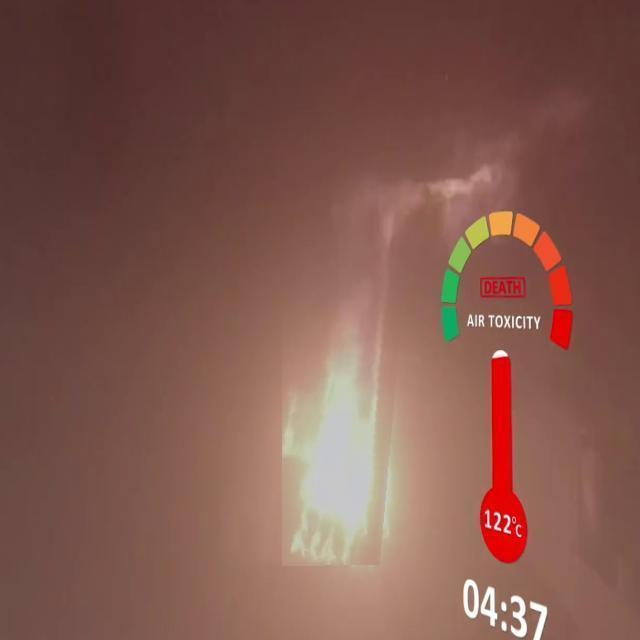smoke: (282, 282, 404, 566)
